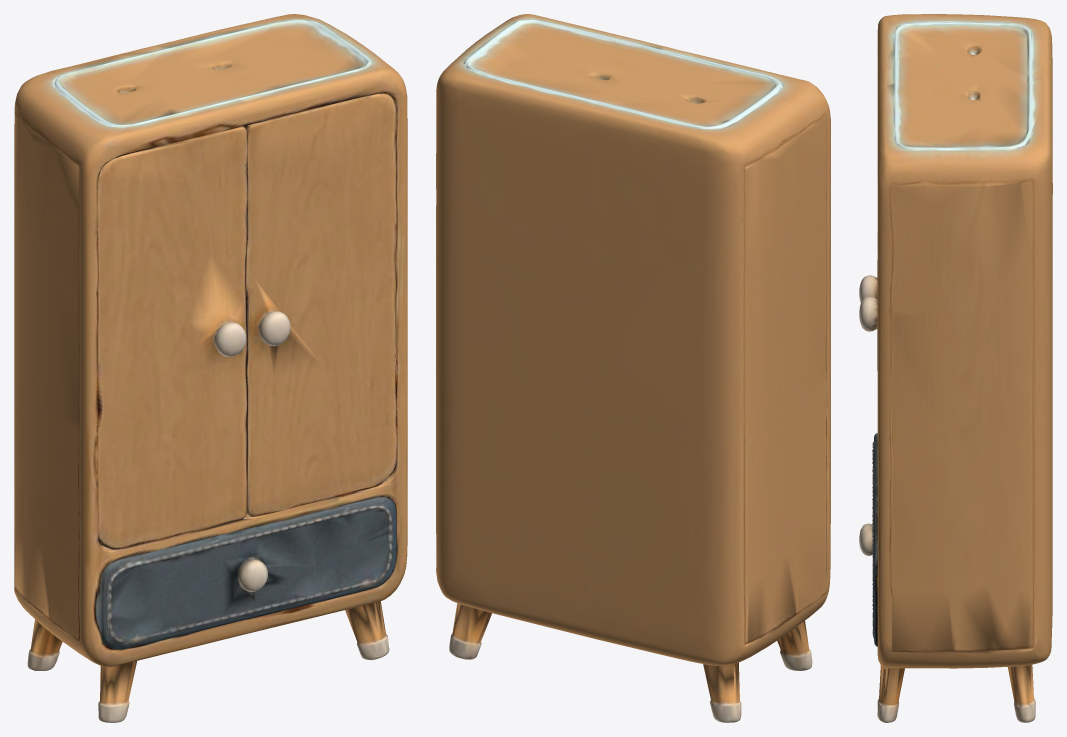
Rendered from wardrobe.medium.glb.
The picture shows the model from 3 angles, left to right: view 1: azimuth 30°, elevation 25°; view 2: azimuth 150°, elevation 25°; view 3: azimuth 270°, elevation 25°; orthographic projection. The views are drawn at different scales.
Visible parts, largest first — view 1: tripo_node_705cc698-275d-47ad-b365-2ff6685e04ab; view 2: tripo_node_705cc698-275d-47ad-b365-2ff6685e04ab; view 3: tripo_node_705cc698-275d-47ad-b365-2ff6685e04ab.
Part boxes in pixels (left/top/right/bottom): tripo_node_705cc698-275d-47ad-b365-2ff6685e04ab: left=14, top=14, right=407, bottom=722; tripo_node_705cc698-275d-47ad-b365-2ff6685e04ab: left=436, top=14, right=830, bottom=722; tripo_node_705cc698-275d-47ad-b365-2ff6685e04ab: left=859, top=14, right=1052, bottom=722.
Bounding box in the file's own units: 1.1 × 1.9 × 0.58.
Materials: 1 (1 with a texture image).
